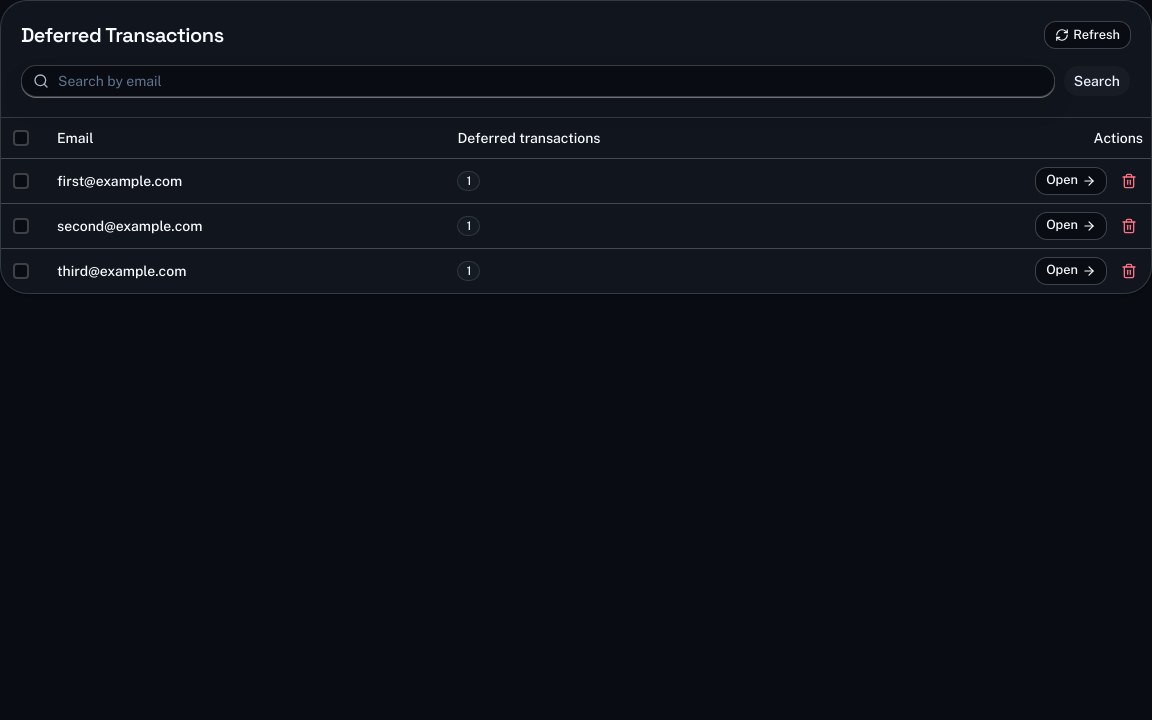
Test: deferred service transaction workbenches › stops bulk deletion on the first failure and leaves later indexes pending
expect the text "first@example.com" is shown: met, box [49,158,450,203]
What coordinates should you click on to do the following:
click the checkbox named "Select all visible deferred transaction indexes"
I would click on:
 (21, 138)
Its box is [13,130,29,146].
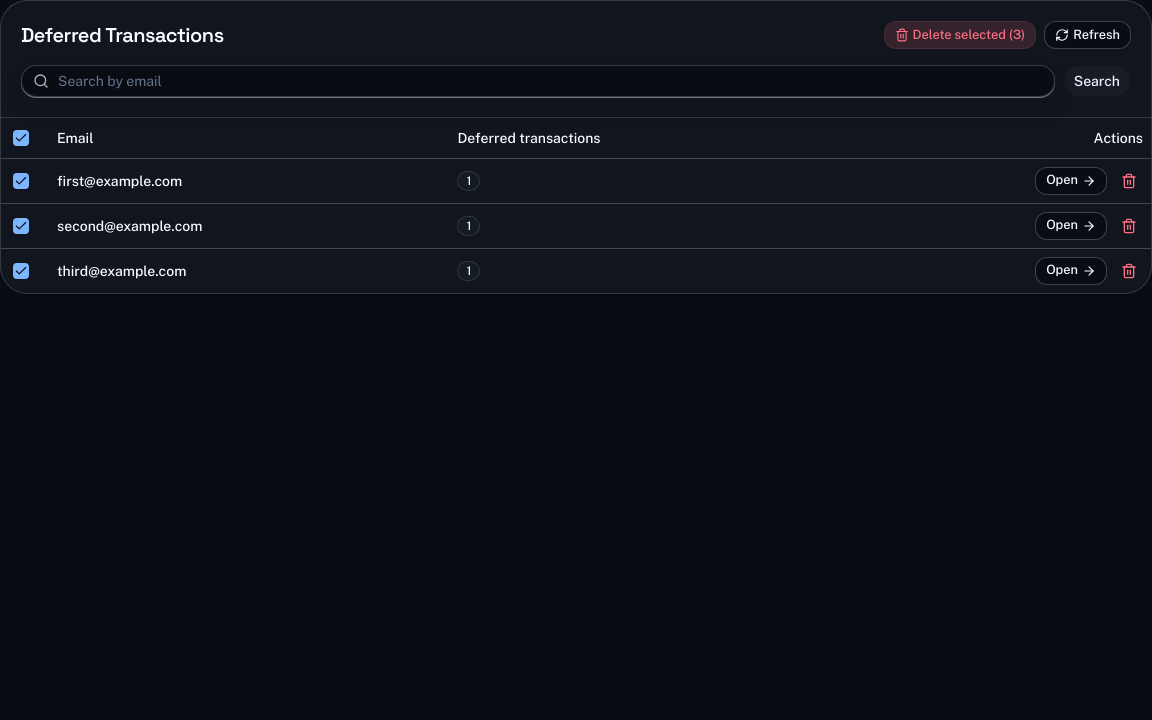
What coordinates should you click on to do the following:
click the button "Delete selected (3)"
I would click on:
 (960, 35)
Its box is [884,21,1036,49].
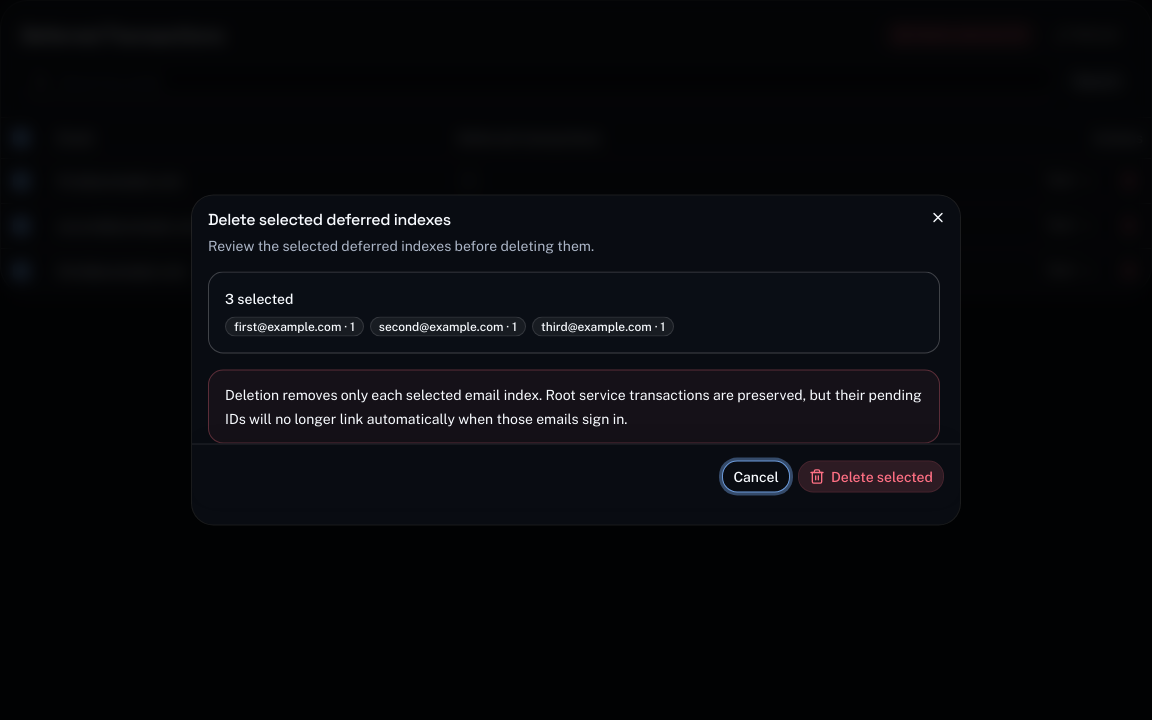
What coordinates should you click on to do the following:
click the button "Delete selected"
I would click on:
 (871, 476)
Its box is [798,460,944,492].
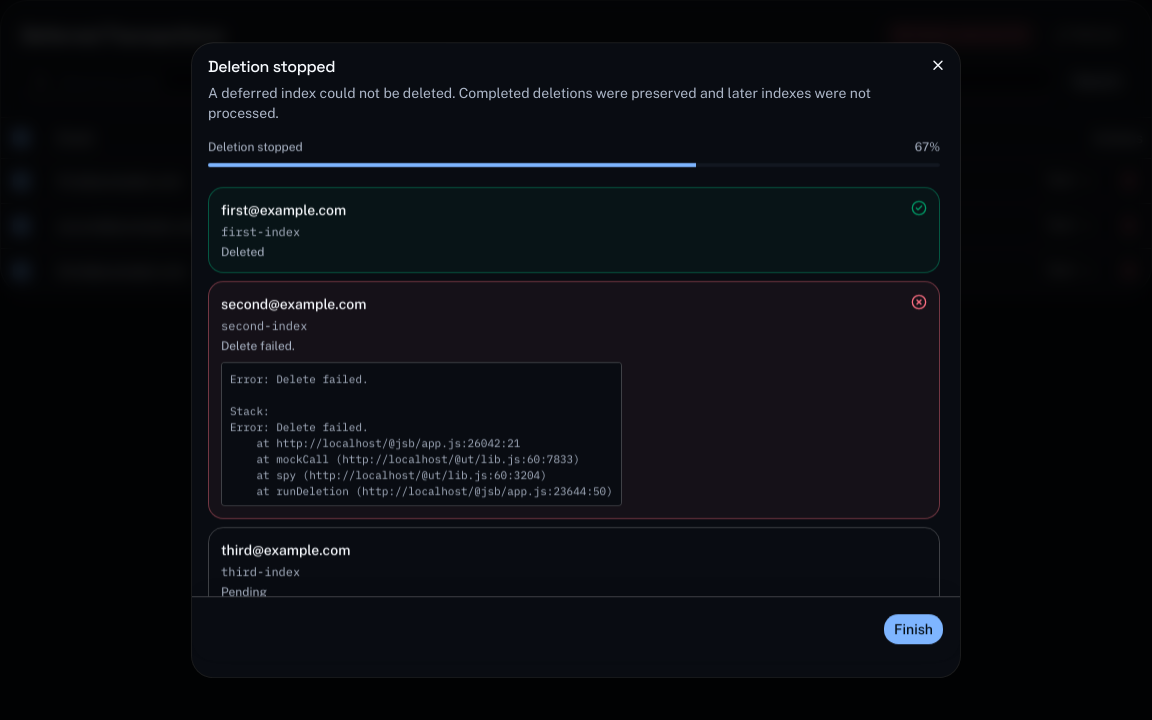
expect the text "A deferred index could not be deleted. Completed deletions were preserved and later indexes were not processed." is shown: met, box [208,85,871,121]
expect the text "Delete failed." is shown: met, box [221,339,295,353]
expect the text "67%" is shown: met, box [915,139,940,155]
What coordinates should you click on to do the following:
click the button "Finish"
I would click on:
 (914, 629)
Its box is [883,613,944,645].
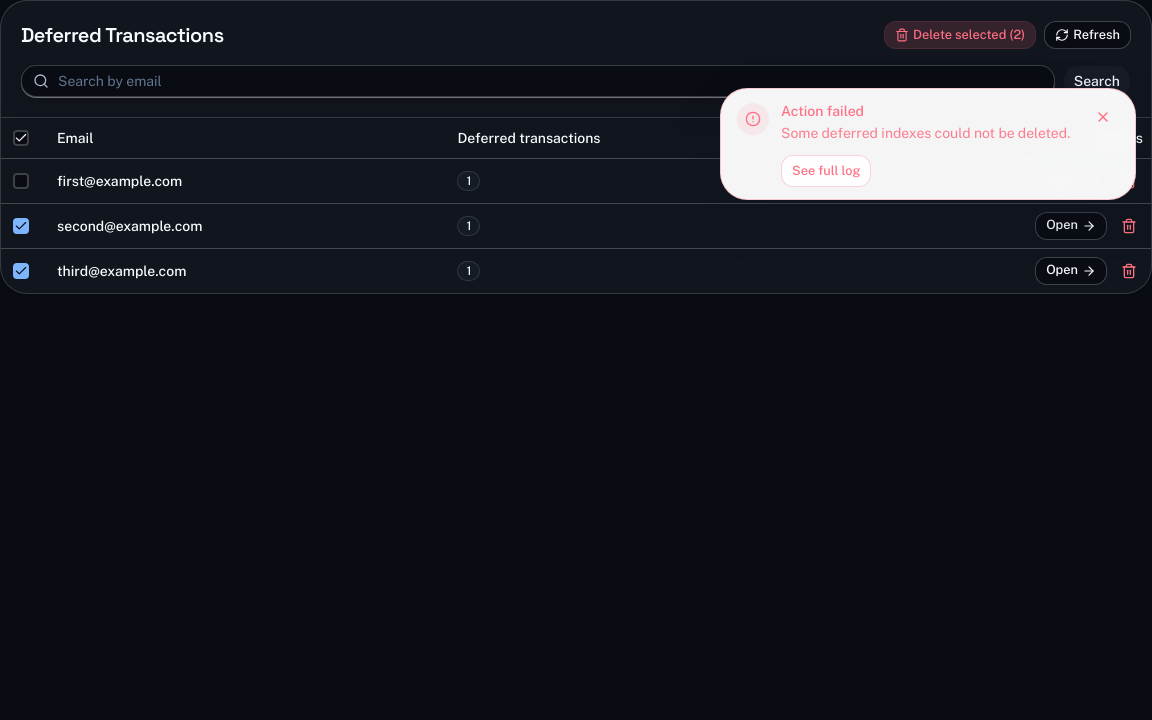
expect the checkbox named "Select deferred transaction index second@example.com" is checked: met, box [13,218,29,234]
expect the checkbox named "Select deferred transaction index third@example.com" is checked: met, box [13,262,29,278]
expect the checkbox named "Select deferred transaction index first@example.com" is not checked: met, box [13,172,29,188]
